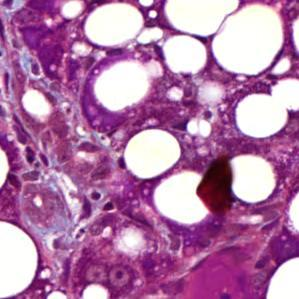steatosis: (210, 4, 286, 79), (118, 125, 184, 181), (88, 60, 155, 112), (151, 170, 206, 227), (230, 143, 283, 201), (83, 2, 144, 46), (235, 89, 290, 137), (163, 33, 209, 81), (17, 88, 59, 121)
